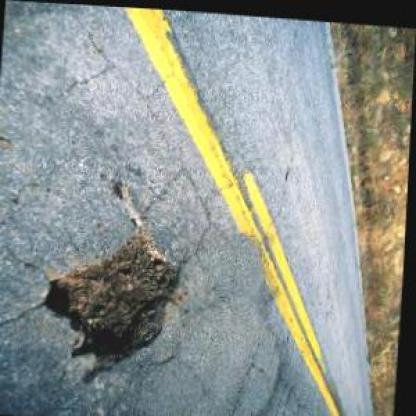pothole: (35, 216, 190, 390)
